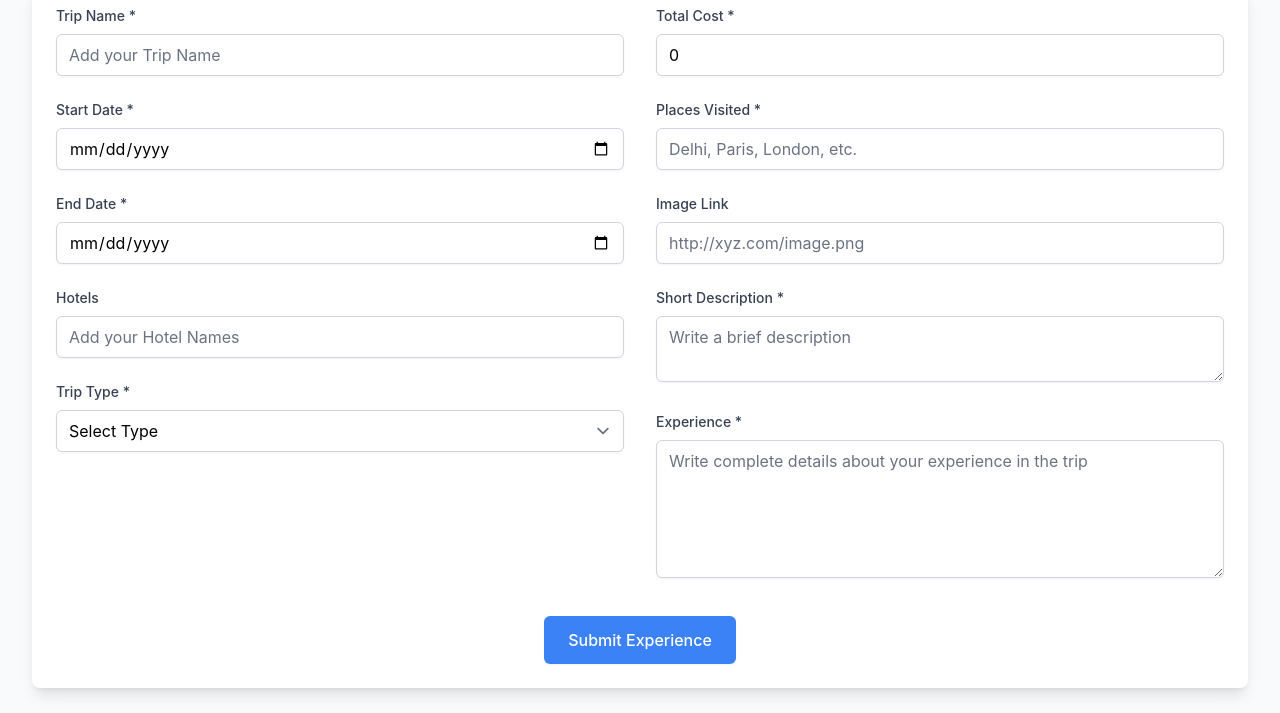
Test: AddExperience Component › shows validation errors for empty required fields
(page scrolled)
Click the button "Submit Experience".
click(640, 640)  # box top-left (544, 616), bottom-right (736, 664)
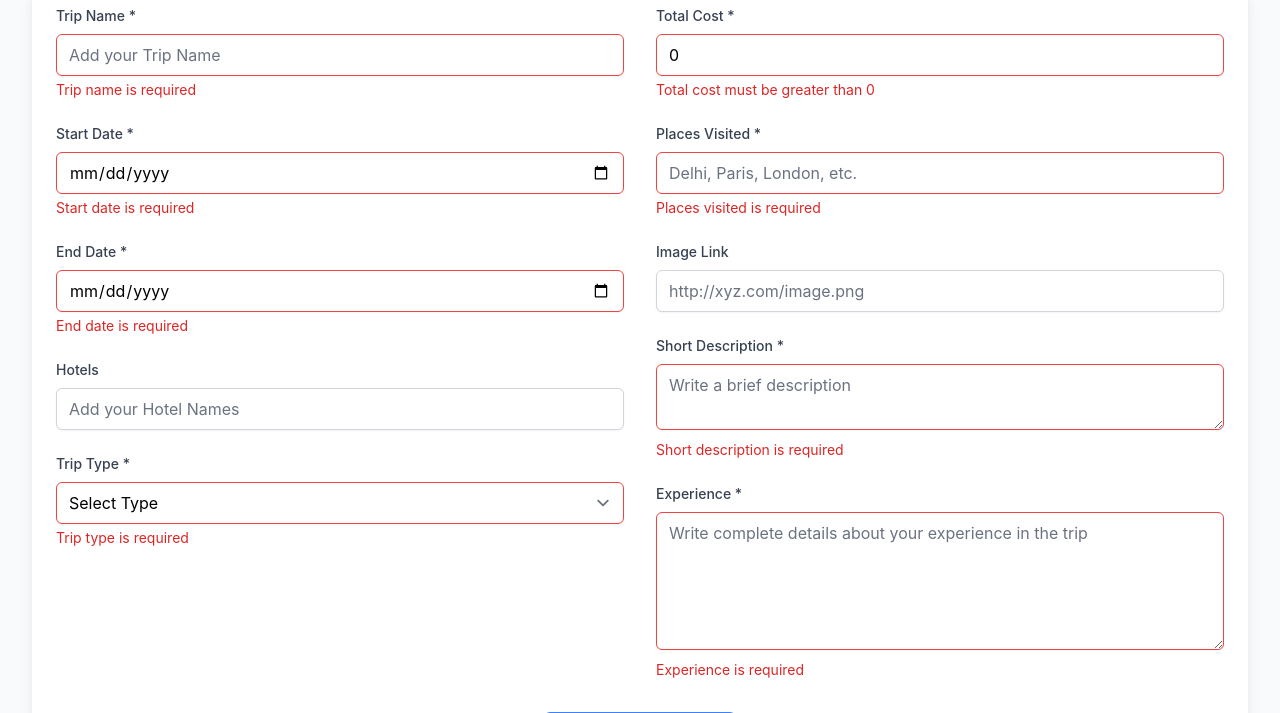
Expected: the text "Trip name is required" is shown, top-left (56, 81), bottom-right (196, 98)
Expected: the text "Total cost must be greater than 0" is shown, top-left (656, 81), bottom-right (875, 98)
Expected: the text "Start date is required" is shown, top-left (56, 199), bottom-right (194, 216)
